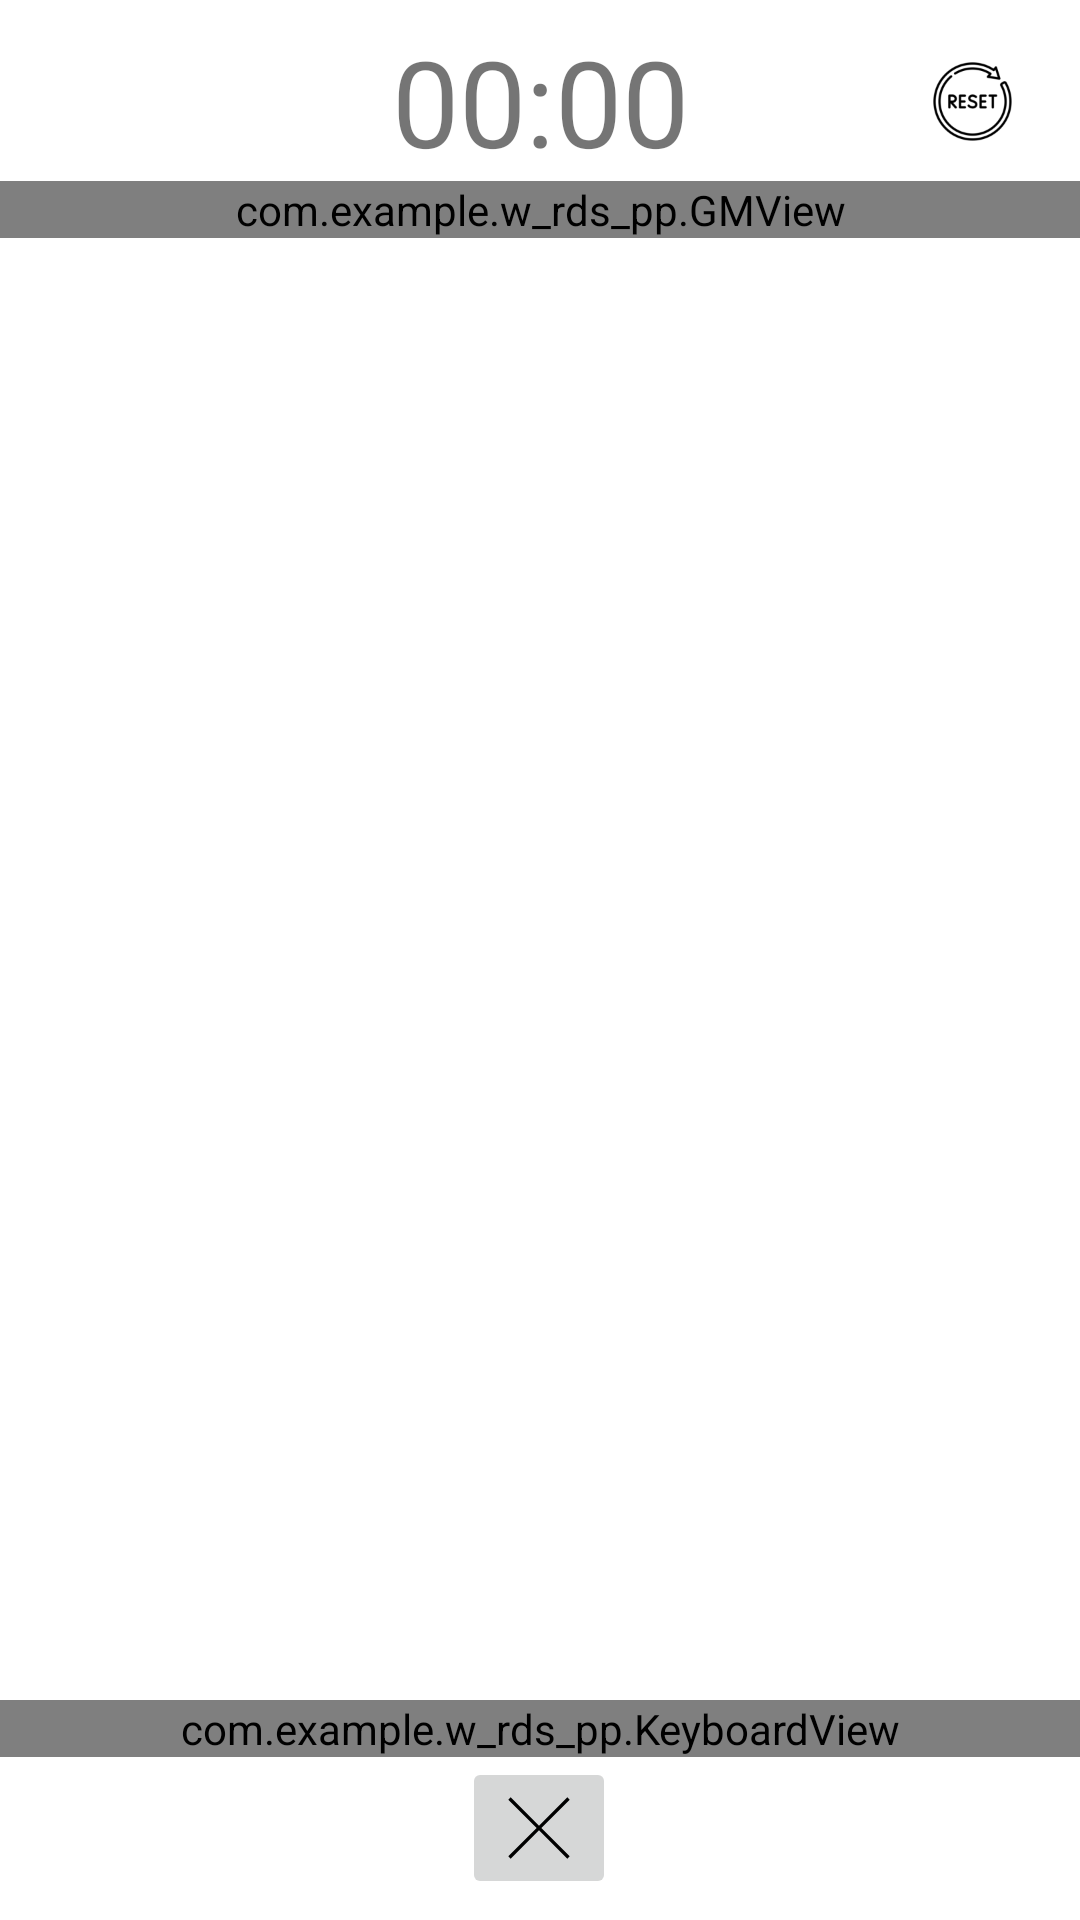

Icons on this 1080*1920 Android screen, each with the point to tap as (x=x, y=y):
Remove: (x=539, y=1828)
